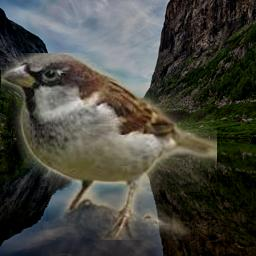Sparrow: (1, 53, 217, 240)
